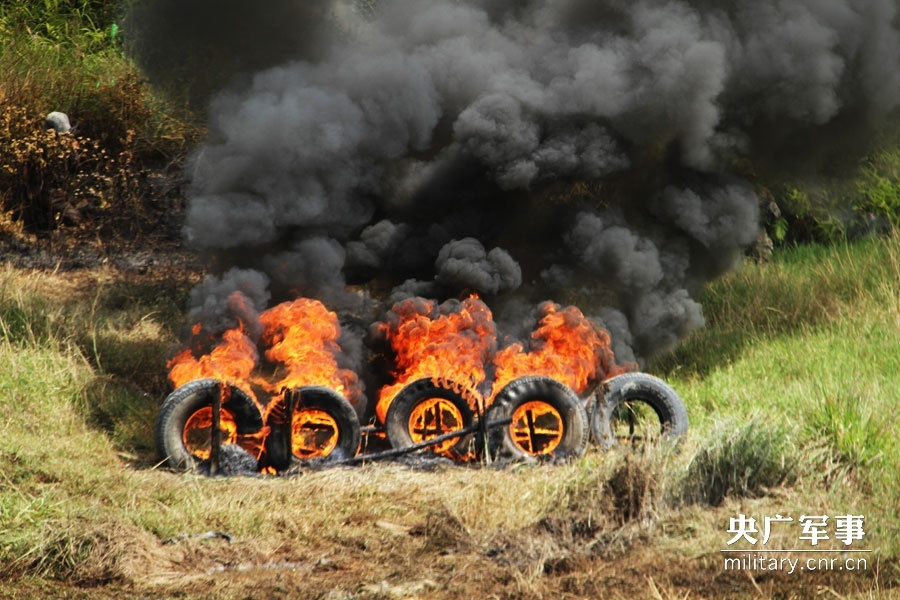fire: (158, 284, 621, 467)
